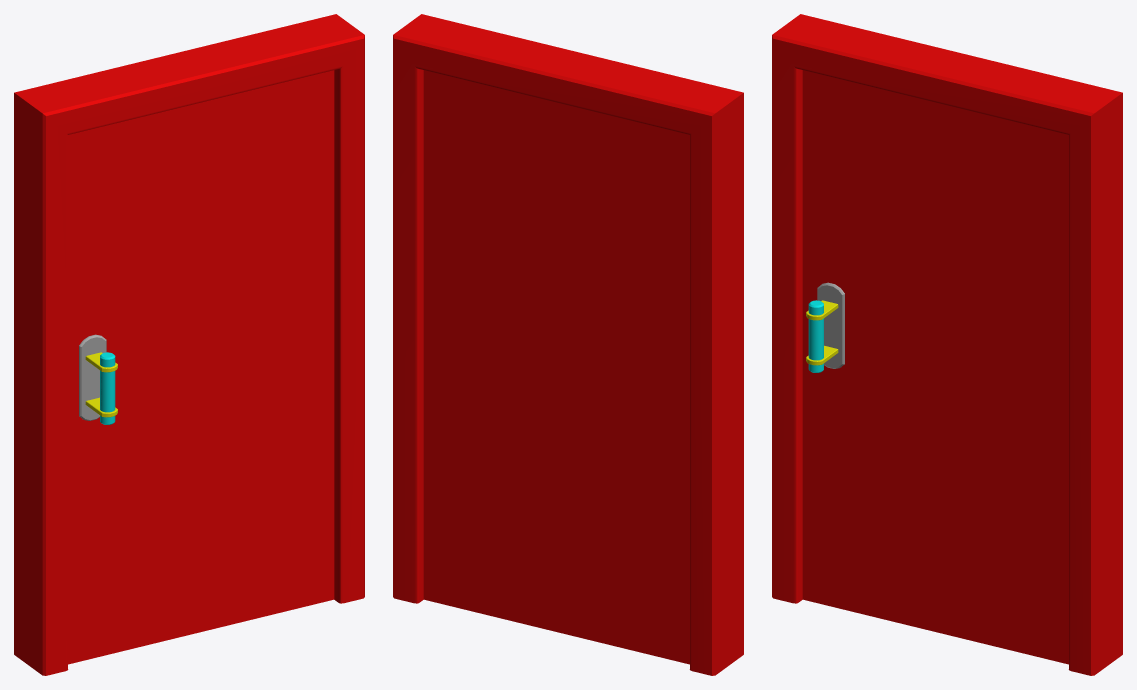
Rendered from Door.fbx.
The picture shows the model from 3 angles, left to right: view 1: azimuth 30°, elevation 25°; view 2: azimuth 150°, elevation 25°; view 3: azimuth 330°, elevation 25°; orthographic projection.
Visible parts, largest first — view 1: DoorBase, DoorHandleBase, DoorHandle; view 2: DoorBase; view 3: DoorBase, DoorHandleBase, DoorHandle.
Part boxes in pixels (left/top/right/bottom): DoorBase: left=14, top=14, right=364, bottom=675; DoorHandleBase: left=79, top=334, right=106, bottom=420; DoorHandle: left=100, top=352, right=115, bottom=424; DoorBase: left=393, top=14, right=743, bottom=675; DoorBase: left=772, top=14, right=1122, bottom=675; DoorHandleBase: left=817, top=282, right=844, bottom=368; DoorHandle: left=808, top=300, right=823, bottom=372.
Size of the model in its own units: 120 by 200 by 29.
